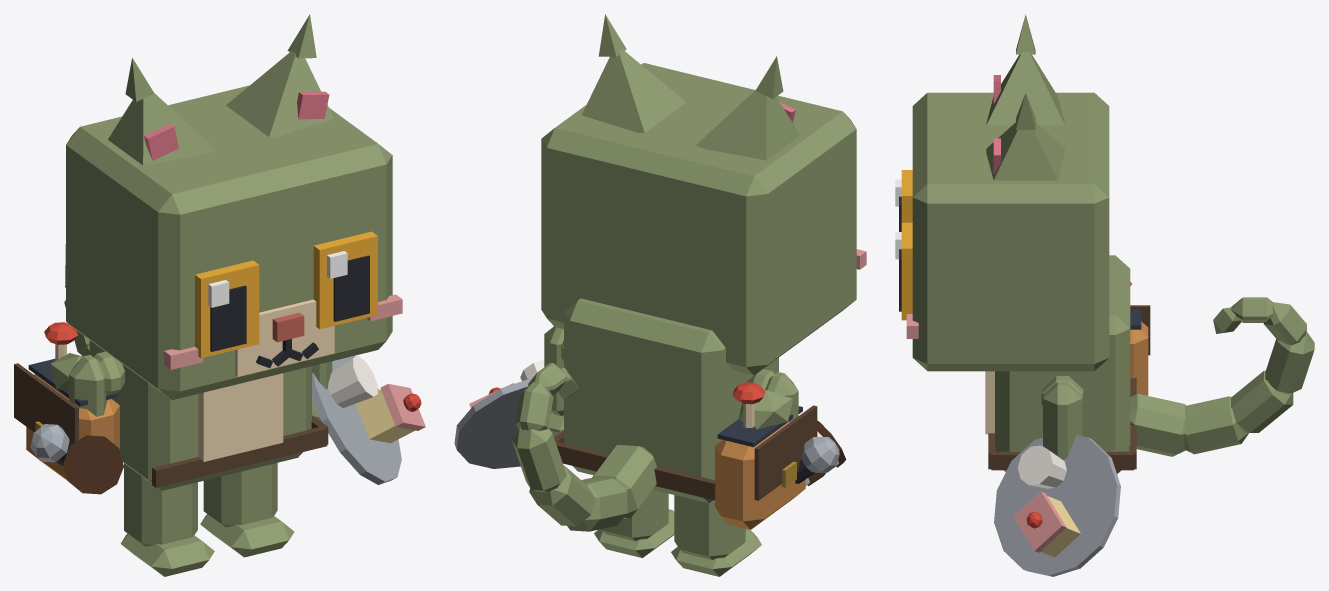
File: CatCafe_Cat_Moss_Work.glb
3 renders of one model, left to right at view 1: azimuth 30°, elevation 25°; view 2: azimuth 150°, elevation 25°; view 3: azimuth 270°, elevation 25°, orthographic. The views are drawn at different scales.
Visible parts, largest first — view 1: CatCafe_Cat_Moss_Work_Head, CatCafe_Cat_Moss_Work_Body, CatCafe_Cat_Moss_Work_Held_Waiter, CatCafe_Cat_Moss_Work_LegB2, CatCafe_Cat_Moss_Work_EarL, CatCafe_Cat_Moss_Work_LegB1, CatCafe_Cat_Moss_Work_Eye2, CatCafe_Cat_Moss_Work_Eye1, CatCafe_Cat_Moss_Work_EarR, CatCafe_Cat_Moss_Work_Held_Barista, CatCafe_Cat_Moss_Work_LegF2, CatCafe_Cat_Moss_Work_Held_Entertainer; view 2: CatCafe_Cat_Moss_Work_Head, CatCafe_Cat_Moss_Work_Body, CatCafe_Cat_Moss_Work_Tail, CatCafe_Cat_Moss_Work_EarL, CatCafe_Cat_Moss_Work_EarR, CatCafe_Cat_Moss_Work_LegB2, CatCafe_Cat_Moss_Work_Held_Waiter, CatCafe_Cat_Moss_Work_LegB1, CatCafe_Cat_Moss_Work_Held_Entertainer, CatCafe_Cat_Moss_Work_LegF1, CatCafe_Cat_Moss_Work_LegF2; view 3: CatCafe_Cat_Moss_Work_Head, CatCafe_Cat_Moss_Work_Body, CatCafe_Cat_Moss_Work_Held_Waiter, CatCafe_Cat_Moss_Work_Tail, CatCafe_Cat_Moss_Work_EarL, CatCafe_Cat_Moss_Work_EarR, CatCafe_Cat_Moss_Work_LegF1, CatCafe_Cat_Moss_Work_Eye1, CatCafe_Cat_Moss_Work_Eye2.
Boxes of the visible parts, bbox=[...] form: CatCafe_Cat_Moss_Work_Head: bbox=[66, 85, 402, 400]; CatCafe_Cat_Moss_Work_Body: bbox=[14, 322, 328, 490]; CatCafe_Cat_Moss_Work_Held_Waiter: bbox=[312, 355, 425, 484]; CatCafe_Cat_Moss_Work_LegB2: bbox=[120, 463, 214, 576]; CatCafe_Cat_Moss_Work_EarL: bbox=[226, 14, 334, 136]; CatCafe_Cat_Moss_Work_LegB1: bbox=[200, 463, 294, 557]; CatCafe_Cat_Moss_Work_Eye2: bbox=[195, 260, 259, 358]; CatCafe_Cat_Moss_Work_Eye1: bbox=[313, 231, 377, 329]; CatCafe_Cat_Moss_Work_EarR: bbox=[108, 58, 215, 165]; CatCafe_Cat_Moss_Work_Held_Barista: bbox=[63, 435, 123, 494]; CatCafe_Cat_Moss_Work_LegF2: bbox=[69, 355, 107, 416]; CatCafe_Cat_Moss_Work_Held_Entertainer: bbox=[30, 424, 69, 465]; CatCafe_Cat_Moss_Work_Head: bbox=[541, 63, 866, 375]; CatCafe_Cat_Moss_Work_Body: bbox=[554, 298, 817, 529]; CatCafe_Cat_Moss_Work_Tail: bbox=[512, 363, 656, 531]; CatCafe_Cat_Moss_Work_EarL: bbox=[582, 14, 686, 132]; CatCafe_Cat_Moss_Work_EarR: bbox=[696, 56, 800, 160]; CatCafe_Cat_Moss_Work_LegB2: bbox=[671, 495, 761, 576]; CatCafe_Cat_Moss_Work_Held_Waiter: bbox=[454, 360, 544, 468]; CatCafe_Cat_Moss_Work_LegB1: bbox=[594, 489, 674, 557]; CatCafe_Cat_Moss_Work_Held_Entertainer: bbox=[795, 437, 839, 483]; CatCafe_Cat_Moss_Work_LegF1: bbox=[544, 326, 563, 436]; CatCafe_Cat_Moss_Work_LegF2: bbox=[765, 372, 798, 421]; CatCafe_Cat_Moss_Work_Head: bbox=[906, 92, 1109, 371]; CatCafe_Cat_Moss_Work_Body: bbox=[985, 255, 1150, 473]; CatCafe_Cat_Moss_Work_Held_Waiter: bbox=[994, 435, 1120, 576]; CatCafe_Cat_Moss_Work_Tail: bbox=[1130, 297, 1314, 456]; CatCafe_Cat_Moss_Work_EarL: bbox=[986, 93, 1064, 180]; CatCafe_Cat_Moss_Work_EarR: bbox=[986, 14, 1064, 125]; CatCafe_Cat_Moss_Work_LegF1: bbox=[1043, 382, 1082, 460]; CatCafe_Cat_Moss_Work_Eye1: bbox=[895, 222, 912, 320]; CatCafe_Cat_Moss_Work_Eye2: bbox=[895, 170, 912, 231].
Bounding box in the file's own units: 1.53 × 2.03 × 1.62.
Materials: 1 (1 with a texture image).
